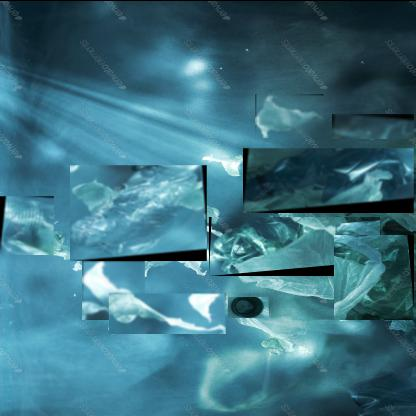bottle: (70, 163, 208, 260), (243, 146, 415, 212), (209, 215, 381, 275), (334, 233, 415, 319)
waste: (109, 291, 227, 333), (82, 258, 146, 319), (0, 194, 55, 254), (255, 92, 325, 137), (332, 112, 415, 138), (228, 292, 270, 316)
